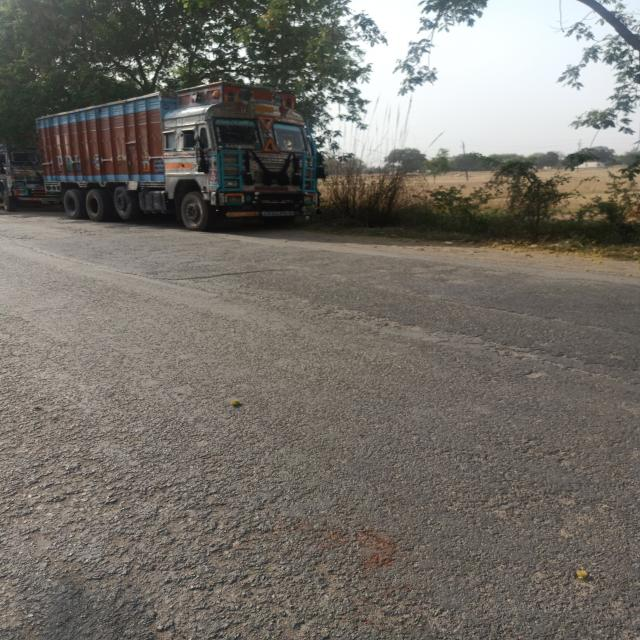Truck: (36, 82, 316, 235)
